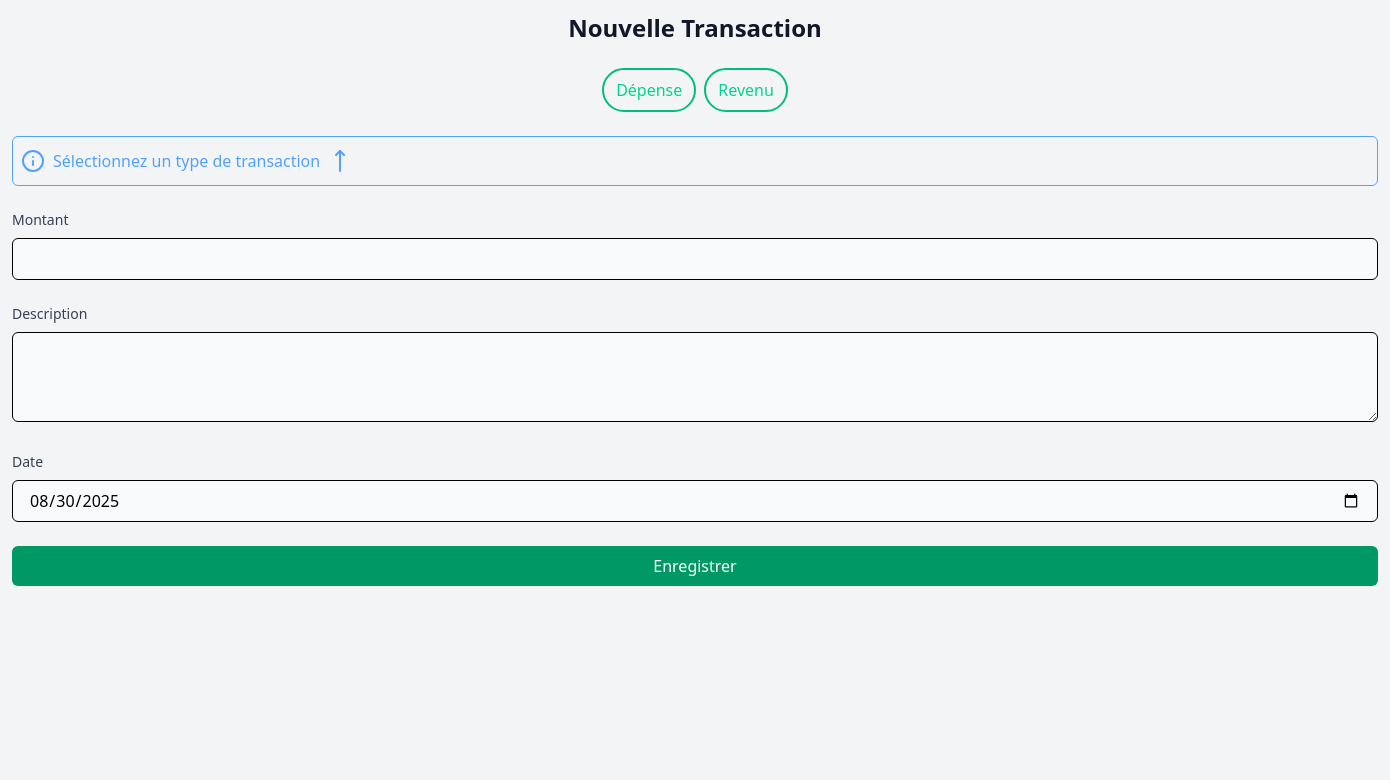
Test: TransactionForm › charge les catégories (défaut + API) et affiche le sélecteur après choix du type
The image size is (1390, 780).
What coordinates should you click on to do the following:
click the text "Dépense"
I would click on:
 (649, 90)
Its box is [602,68,696,112].
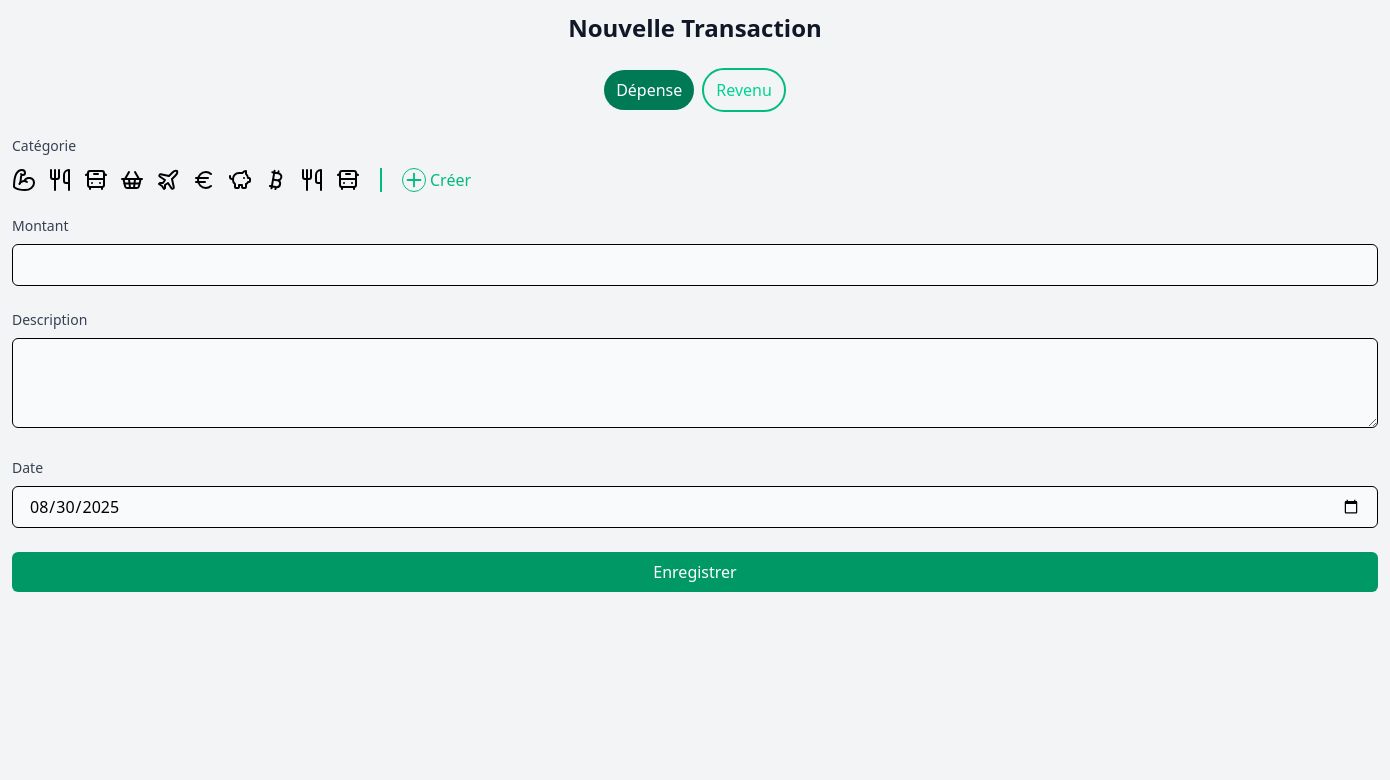
Now the text "Catégorie" is shown, box [12,136,76,155]
